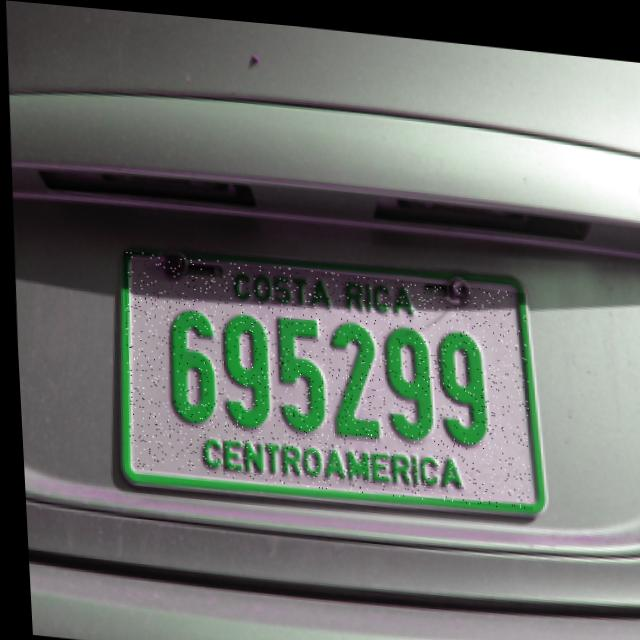license_plate: (116, 248, 531, 501)
